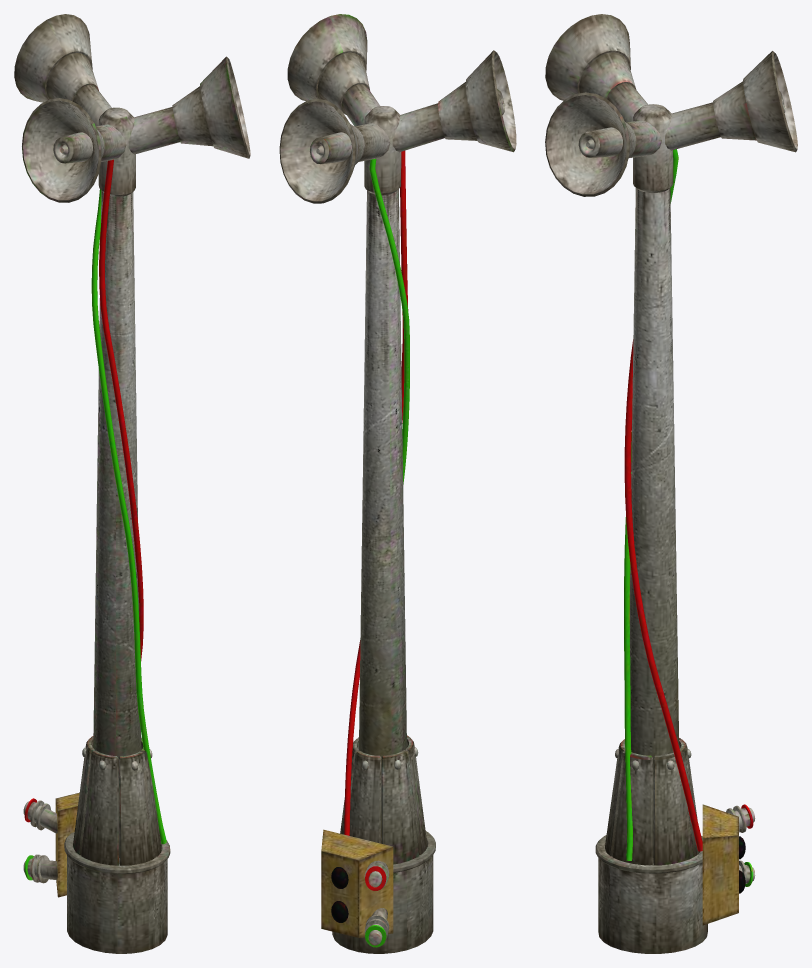
Rendered from programmable-speaker.glb.
3 views of the same model, side by side, from view 1: azimuth 30°, elevation 25°; view 2: azimuth 150°, elevation 25°; view 3: azimuth 270°, elevation 25° (orthographic).
Parts seen in each view (by area): view 1: body; view 2: body; view 3: body.
Part boxes in pixels (x1,y1,x2,y2): body: (14,14,250,953); body: (279,14,516,953); body: (545,14,797,953).
Bounding box in the file's own units: 0.9 × 3.45 × 0.9.
Materials: 1 (1 with a texture image).
